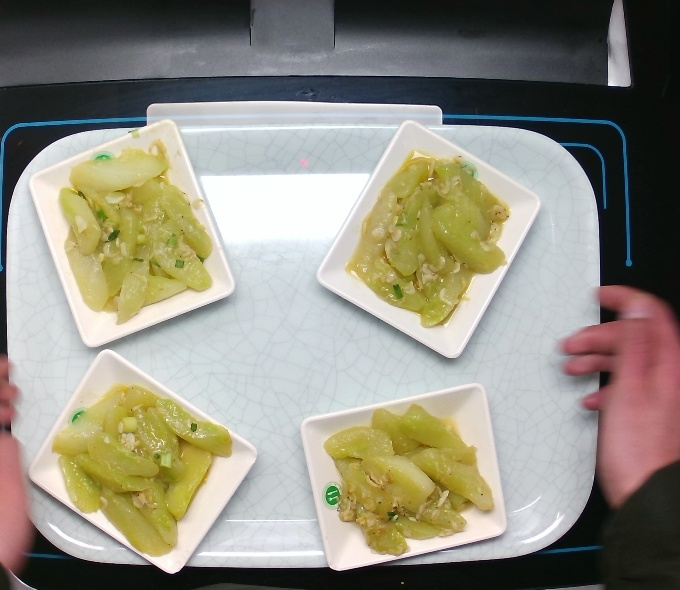wcq-HuangGua: (338, 144, 510, 333), (51, 388, 236, 560), (51, 137, 218, 326), (310, 404, 500, 559)
